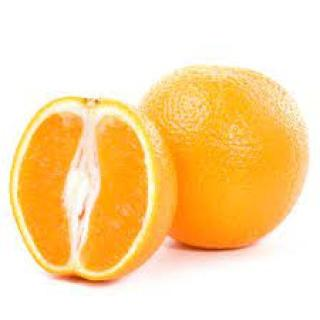orange: (136, 56, 317, 291), (0, 76, 172, 292)
